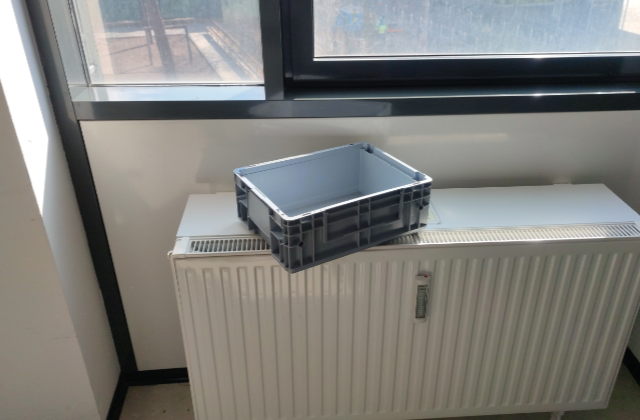Box: (231, 139, 433, 276)
